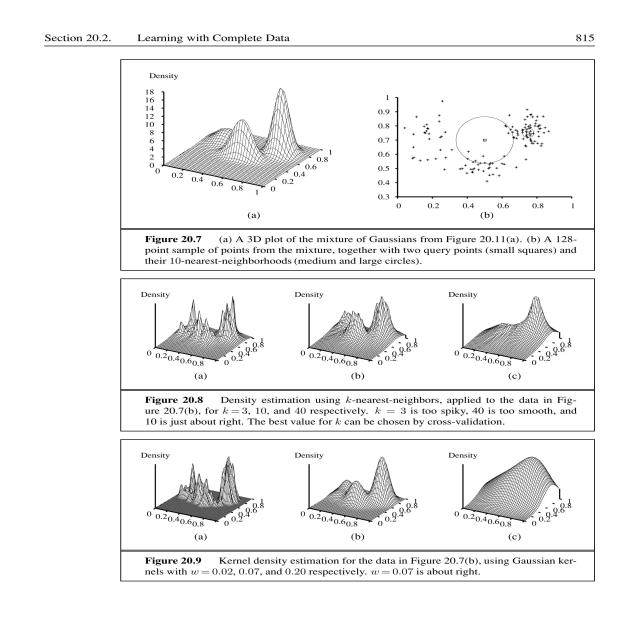diagram: (101, 59, 640, 588)
